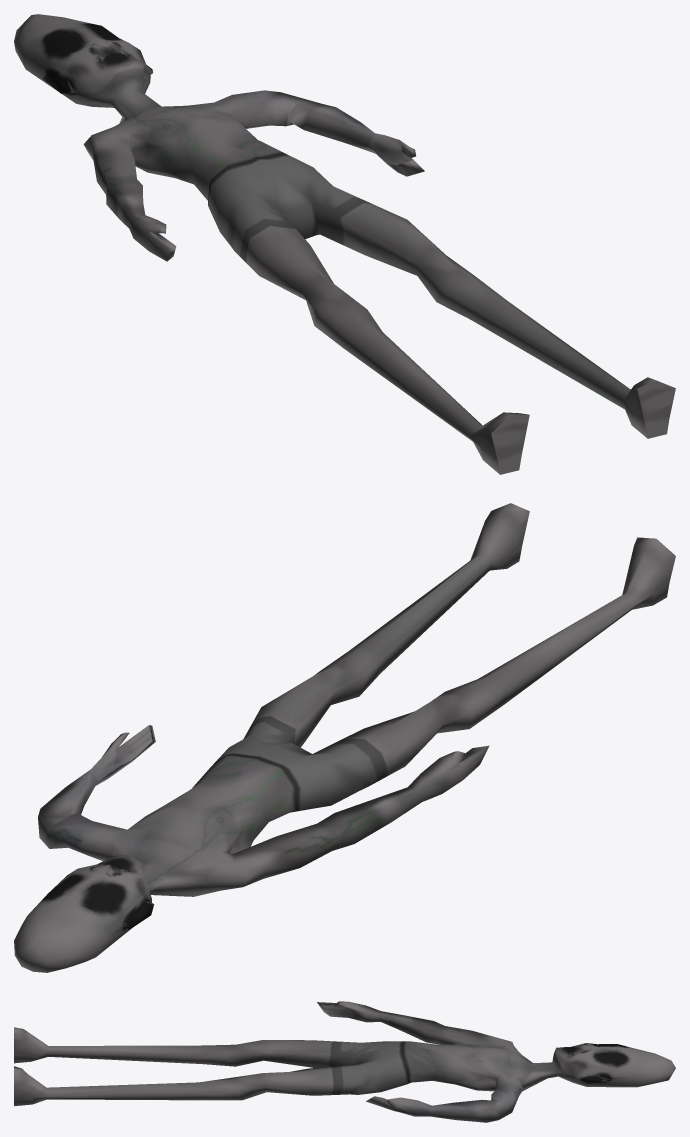
Rendered from WorldItem_AlienBody.fbx.
The picture shows the model from 3 angles, top to bottom: view 1: azimuth 30°, elevation 25°; view 2: azimuth 150°, elevation 25°; view 3: azimuth 270°, elevation 25°; orthographic projection. The views are drawn at different scales.
Parts seen in each view (by area): view 1: AlienBody; view 2: AlienBody; view 3: AlienBody.
Part boxes in pixels (box(x1,y1,x2,y2)): AlienBody: box(14, 14, 675, 474); AlienBody: box(14, 503, 675, 972); AlienBody: box(14, 1001, 675, 1122).
Bounding box in the file's own units: 0.422 × 0.0831 × 1.3.
